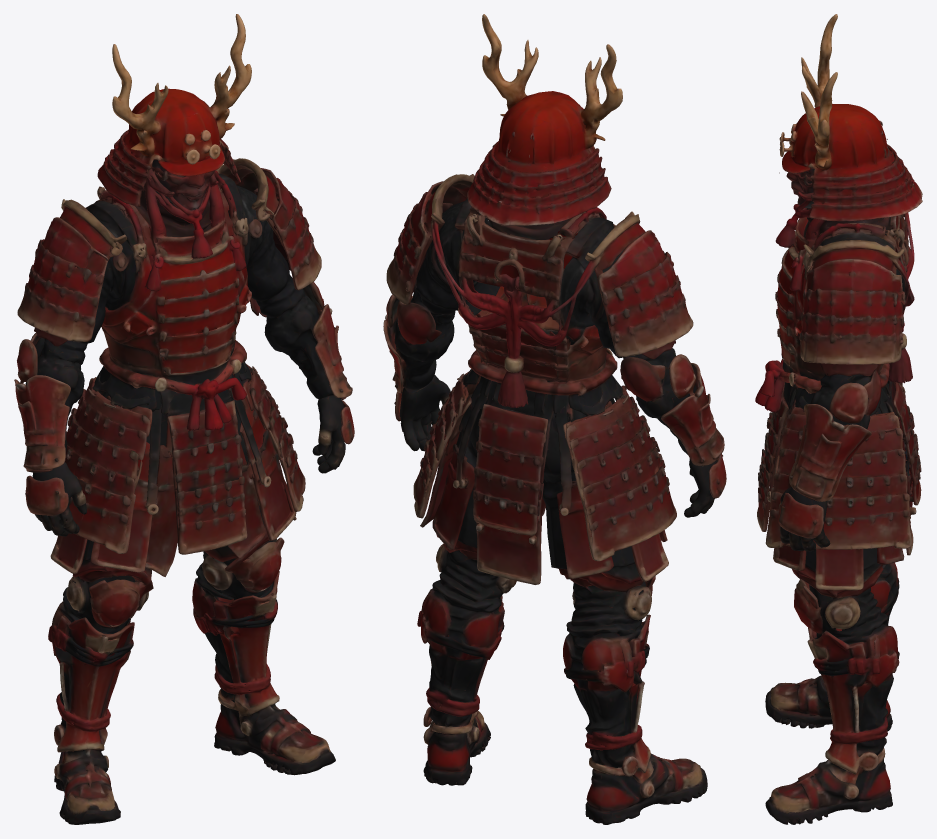
Rendered from trellis-three-views.glb.
The picture shows the model from 3 angles, left to right: view 1: azimuth 30°, elevation 25°; view 2: azimuth 150°, elevation 25°; view 3: azimuth 270°, elevation 25°; orthographic projection. The views are drawn at different scales.
Parts seen in each view (by area): view 1: geometry_0; view 2: geometry_0; view 3: geometry_0.
Boxes of the visible parts, left/top/right/bottom form: geometry_0: left=14, top=14, right=354, bottom=824; geometry_0: left=383, top=14, right=726, bottom=824; geometry_0: left=755, top=14, right=922, bottom=824.
Size of the model in its own units: 0.4517 by 1 by 0.21.
Materials: 1 (1 with a texture image).
